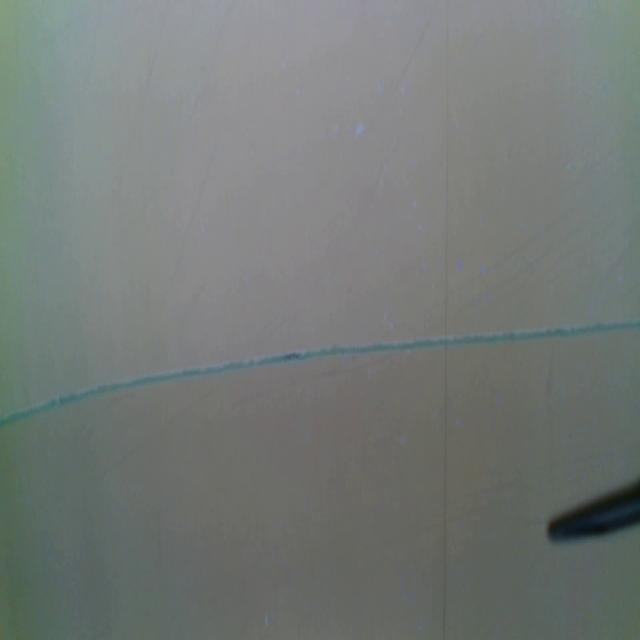crease: (167, 132, 223, 289), (440, 1, 451, 640), (394, 18, 432, 91), (134, 48, 160, 139), (84, 10, 101, 101)
